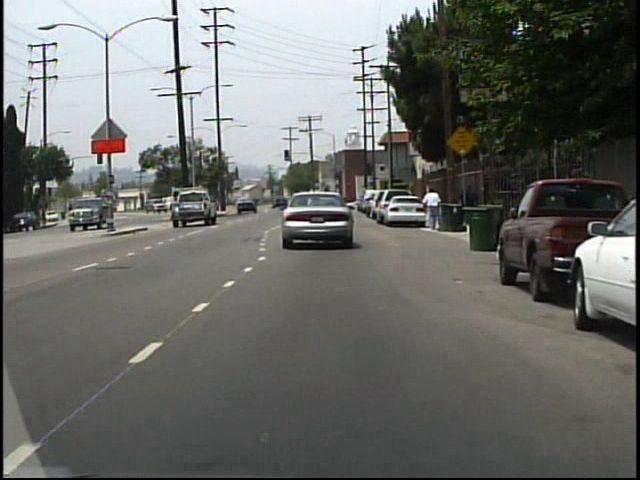person: (422, 187, 442, 233)
